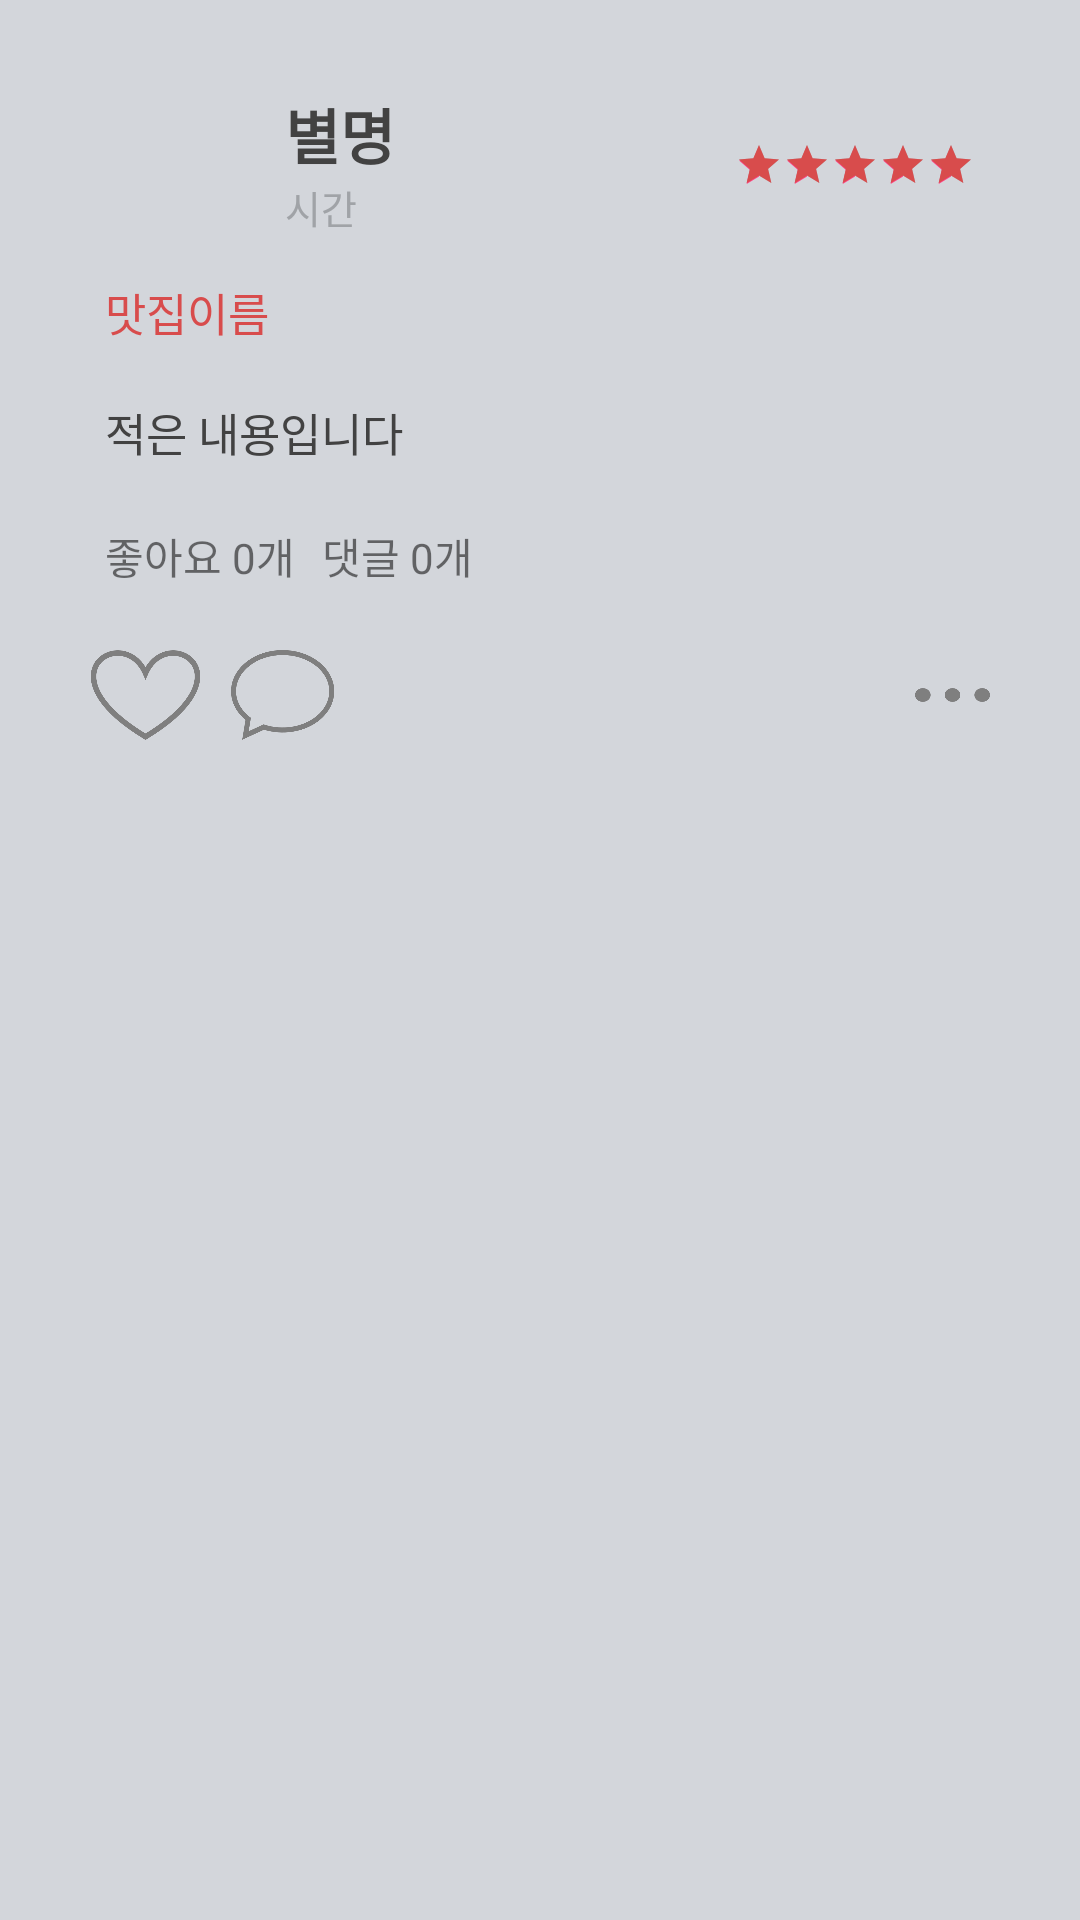

Named icons in this screenshot (1080x1920) and their bounding boxes, box(x1, y1, x2, y2):
nullheart: box(91, 650, 200, 740)
nulltalk: box(231, 650, 334, 740)
